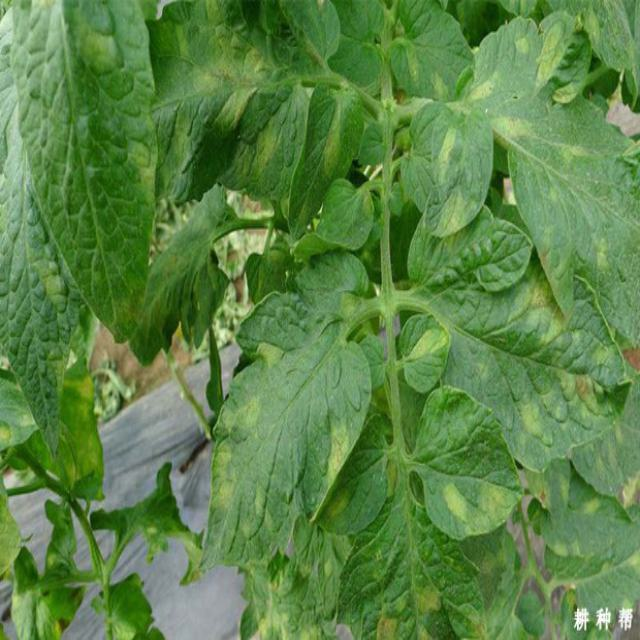Leaf_Mold: (182, 32, 271, 128), (518, 362, 603, 436), (249, 573, 325, 640), (511, 266, 569, 344), (439, 479, 512, 538), (371, 583, 443, 640), (315, 416, 352, 521), (206, 440, 241, 515), (534, 28, 566, 95), (432, 190, 475, 236), (409, 319, 452, 365), (60, 371, 97, 423), (485, 110, 534, 144), (434, 126, 459, 178), (251, 340, 288, 368), (617, 470, 640, 509)
